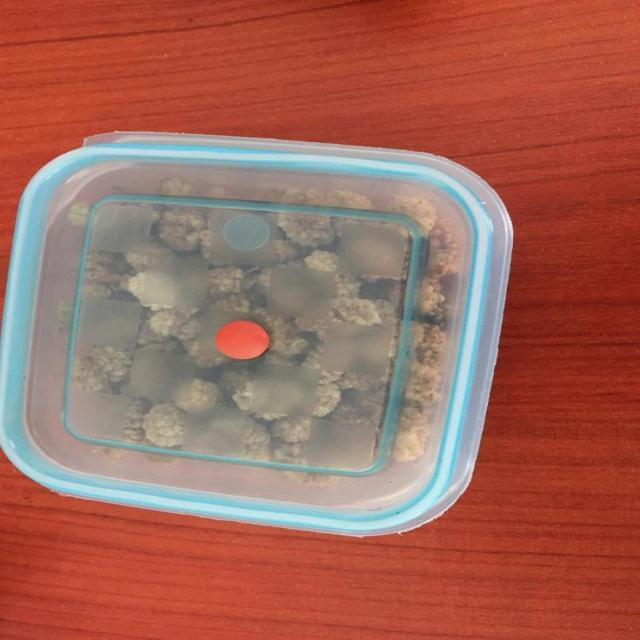pill: (216, 315, 270, 363)
